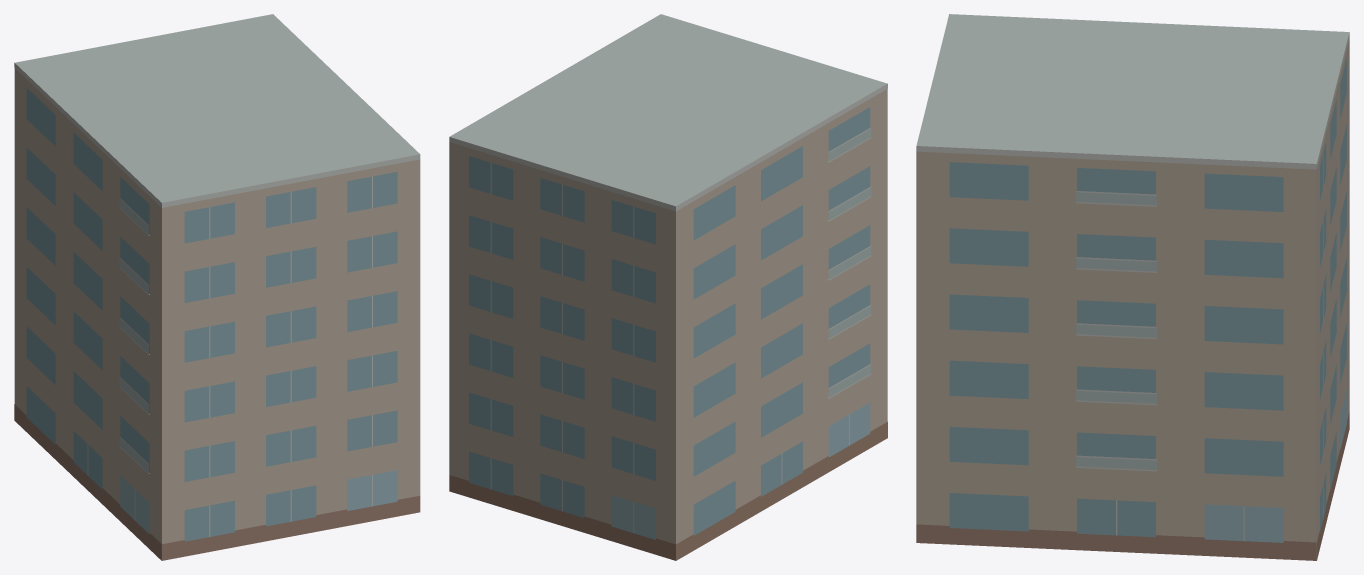
Rendered from survey-upis-32567267.glb.
3 renders of one model, left to right at view 1: azimuth 30°, elevation 25°; view 2: azimuth 150°, elevation 25°; view 3: azimuth 270°, elevation 25°, orthographic. The views are drawn at different scales.
Visible parts, largest first — view 1: survey-upis-32567267.tmp; view 2: survey-upis-32567267.tmp; view 3: survey-upis-32567267.tmp.
Part boxes in pixels (x1,y1,x2,y2): survey-upis-32567267.tmp: (14, 14, 420, 560); survey-upis-32567267.tmp: (449, 14, 887, 560); survey-upis-32567267.tmp: (916, 14, 1349, 560).
Bounding box in the file's own units: 13.94 × 17.2 × 17.02.
